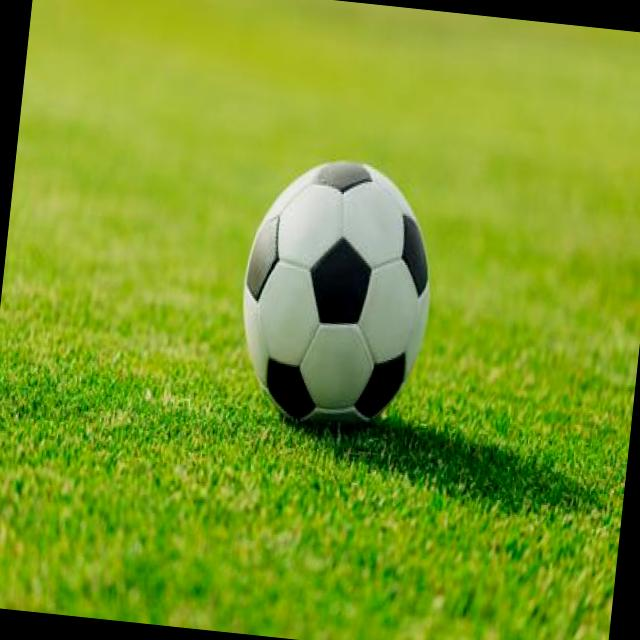Soccer Ball: (231, 148, 443, 435)
